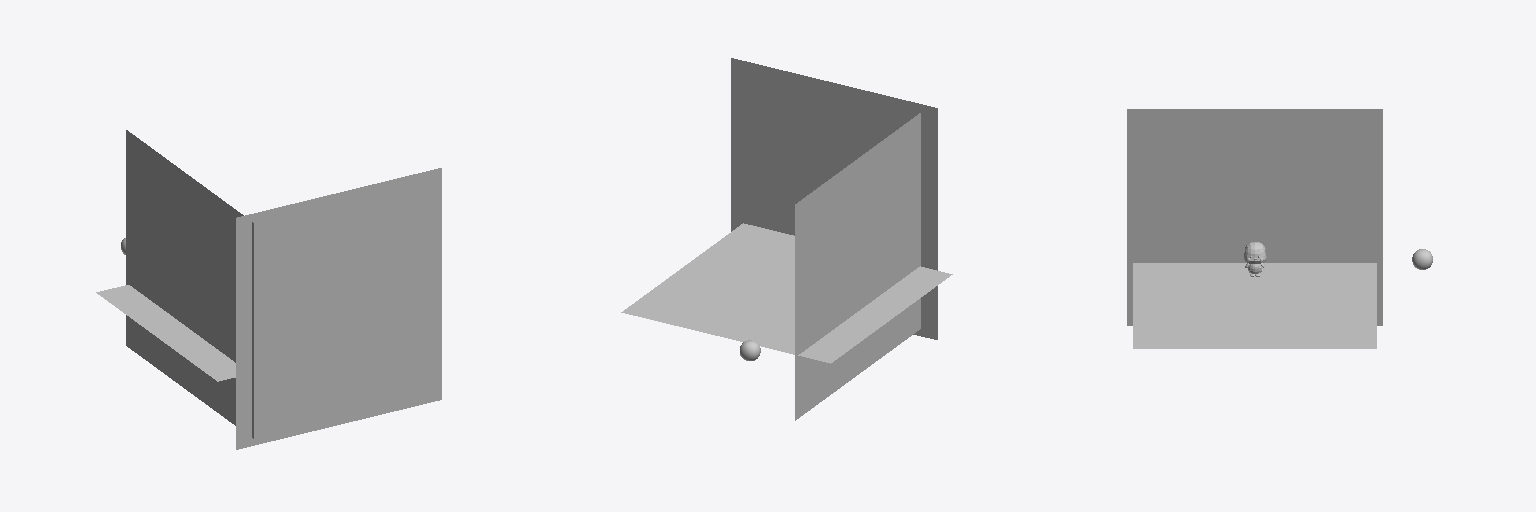
The model's file is dopeassduck.obj.
The picture shows the model from 3 angles: view 1: azimuth 30°, elevation 25°; view 2: azimuth 150°, elevation 25°; view 3: azimuth 270°, elevation 25°; orthographic projection.
Parts seen in each view (by area): view 1: Plane.002, Plane, Plane.001; view 2: Plane, Plane.002, Plane.001; view 3: Plane, Plane.001.
Boxes of the visible parts, box(x1,y1,x2,y2) form: Plane.002: box(236, 168, 441, 449); Plane: box(126, 130, 253, 438); Plane.001: box(96, 285, 235, 381); Plane: box(795, 113, 920, 420); Plane.002: box(731, 58, 937, 339); Plane.001: box(621, 223, 952, 363); Plane: box(1127, 109, 1382, 325); Plane.001: box(1133, 263, 1376, 348).
Size of the model in its own units: 20.8 by 20.69 by 24.69.